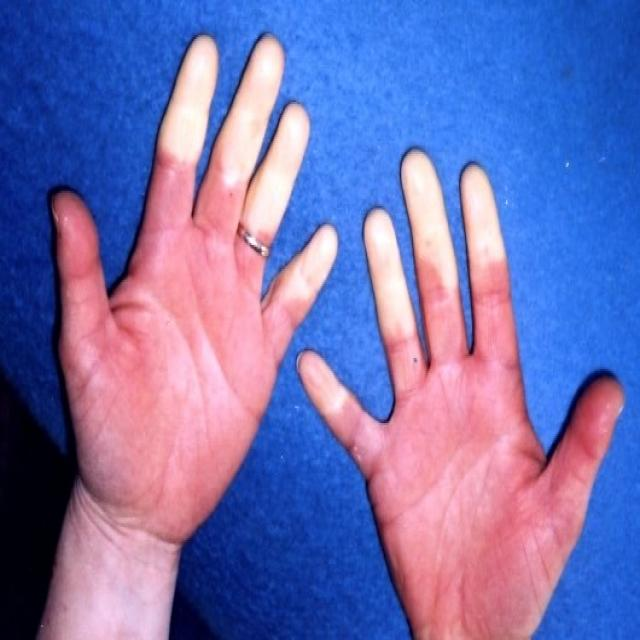raynauds: (242, 91, 328, 254), (151, 12, 219, 198), (212, 20, 287, 186), (358, 194, 421, 359), (269, 215, 348, 340), (400, 145, 460, 300), (453, 164, 514, 278), (294, 348, 369, 439)
